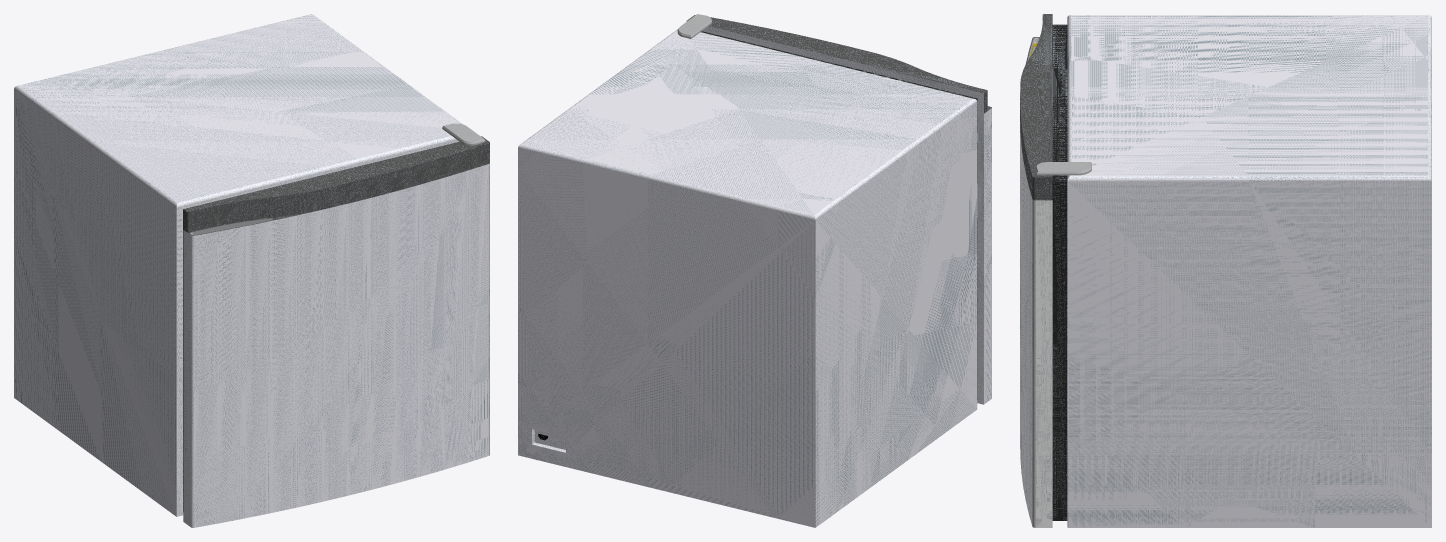
The model's file is Minibar.dae.
The picture shows the model from 3 angles, left to right: view 1: azimuth 30°, elevation 25°; view 2: azimuth 150°, elevation 25°; view 3: azimuth 270°, elevation 25°; orthographic projection. The views are drawn at different scales.
Visible parts, largest first — view 1: instance_1 (×5); view 2: instance_1 (×4); view 3: instance_1 (×7).
Boxes of the visible parts, x1,y1,x2,y2 form: instance_1 (×5): (14,14,489,527); instance_1 (×4): (518,15,991,527); instance_1 (×7): (1020,14,1431,527).
Size of the model in its own units: 24 by 25.55 by 24.64.
